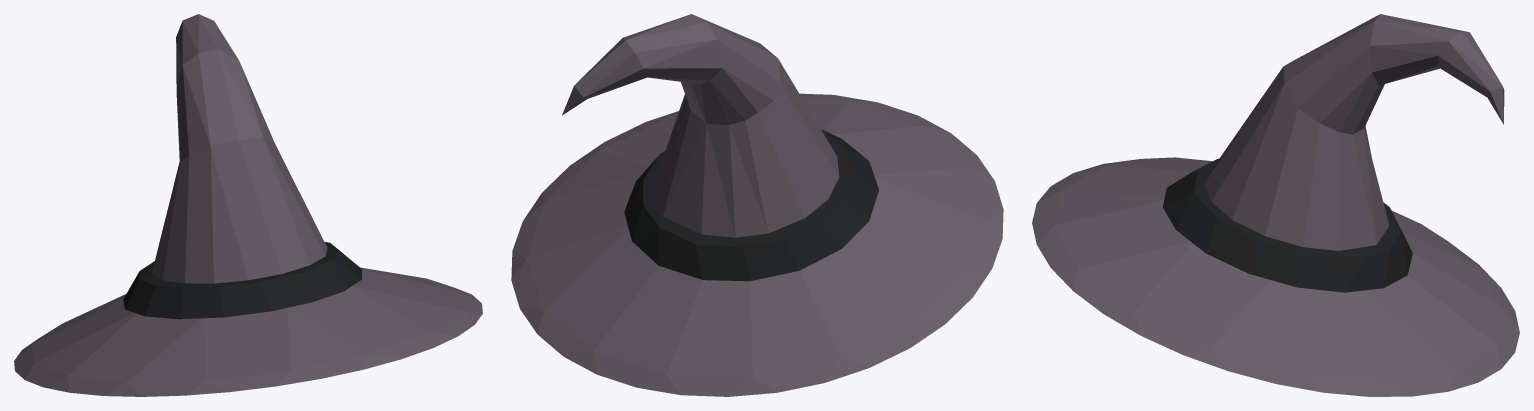
The model's file is WizardHat.fbx.
3 views of the same model, side by side, from view 1: azimuth 30°, elevation 25°; view 2: azimuth 150°, elevation 25°; view 3: azimuth 270°, elevation 25° (orthographic). The views are drawn at different scales.
Parts seen in each view (by area): view 1: Sphere; view 2: Sphere; view 3: Sphere.
Boxes of the visible parts, x1=… form: Sphere: x1=14, y1=14, x2=482, y2=396; Sphere: x1=511, y1=14, x2=1003, y2=396; Sphere: x1=1032, y1=14, x2=1519, y2=396.
Bounding box in the file's own units: 238 × 167 × 231.
